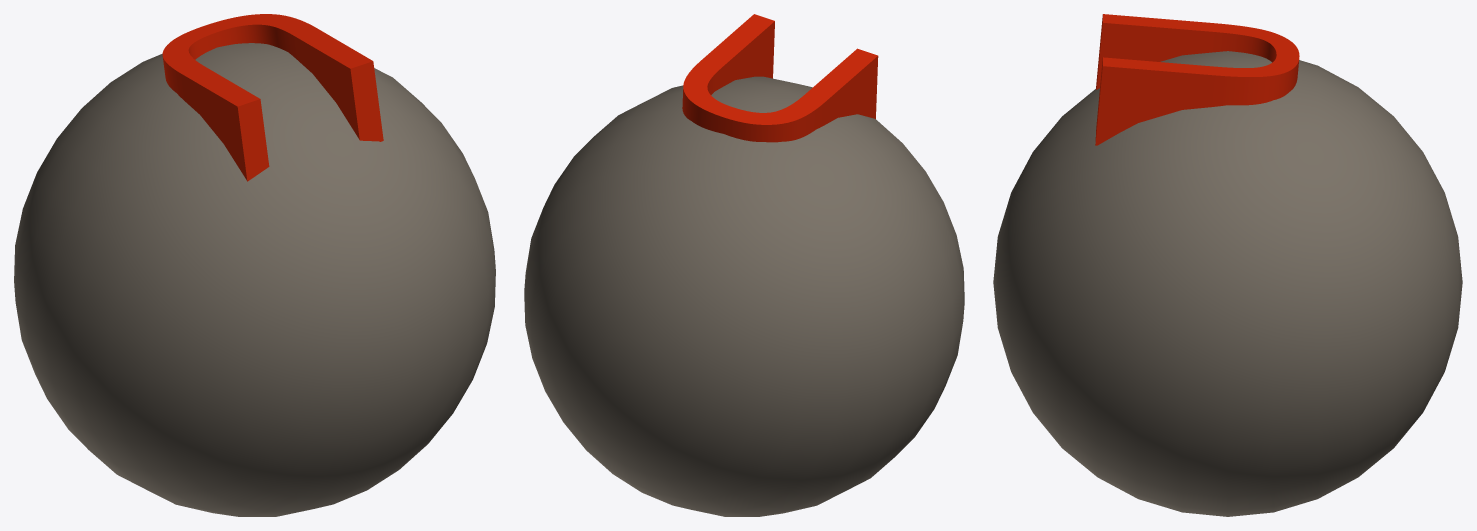
3 views of the same model, side by side, from view 1: azimuth 30°, elevation 25°; view 2: azimuth 150°, elevation 25°; view 3: azimuth 270°, elevation 25° (orthographic). The views are drawn at different scales.
Visible parts, largest first — view 1: U; view 2: U; view 3: U.
Boxes of the visible parts, x1=… form: U: x1=14, y1=14, x2=495, y2=516; U: x1=524, y1=14, x2=964, y2=516; U: x1=993, y1=14, x2=1462, y2=516.
Size of the model in its own units: 38.67 by 41.35 by 38.75.
